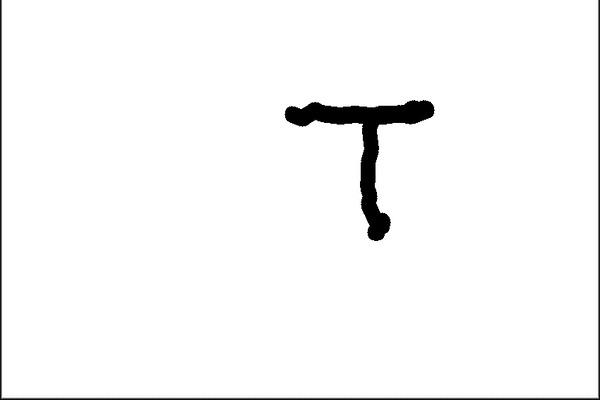T: (280, 86, 435, 243)
